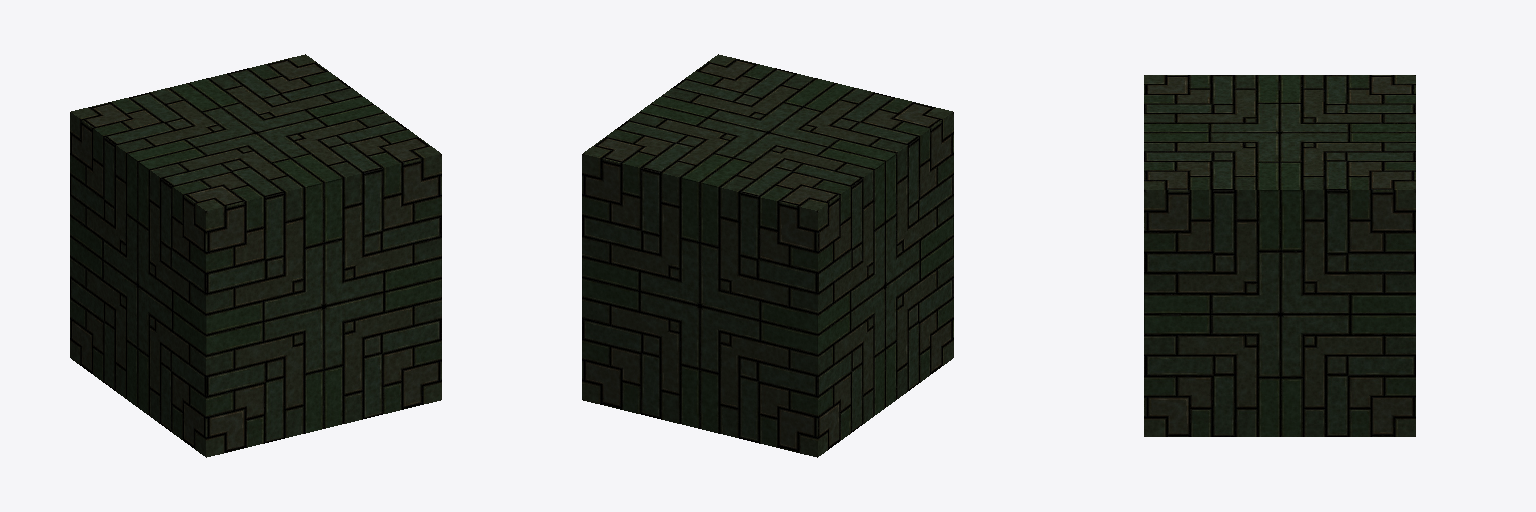
3 renders of one model, left to right at view 1: azimuth 30°, elevation 25°; view 2: azimuth 150°, elevation 25°; view 3: azimuth 270°, elevation 25°, orthographic.
Parts seen in each view (by area): view 1: pCube1; view 2: pCube1; view 3: pCube1.
Boxes of the visible parts, <box> form: pCube1: <box>70,54,441,457</box>; pCube1: <box>582,54,953,457</box>; pCube1: <box>1144,75,1415,436</box>.
Bounding box in the file's own units: 9.44 × 9.44 × 9.44.
1 materials, 1 textured.